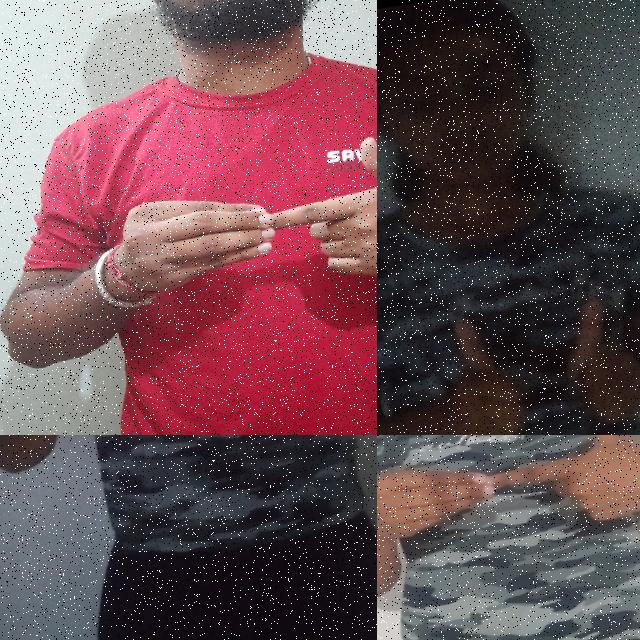Five Fathers: (101, 121, 377, 326), (377, 435, 640, 564)
Thumbs Up: (418, 304, 546, 435), (553, 292, 640, 435)
